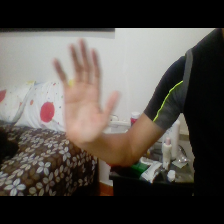left: (47, 33, 124, 150)
